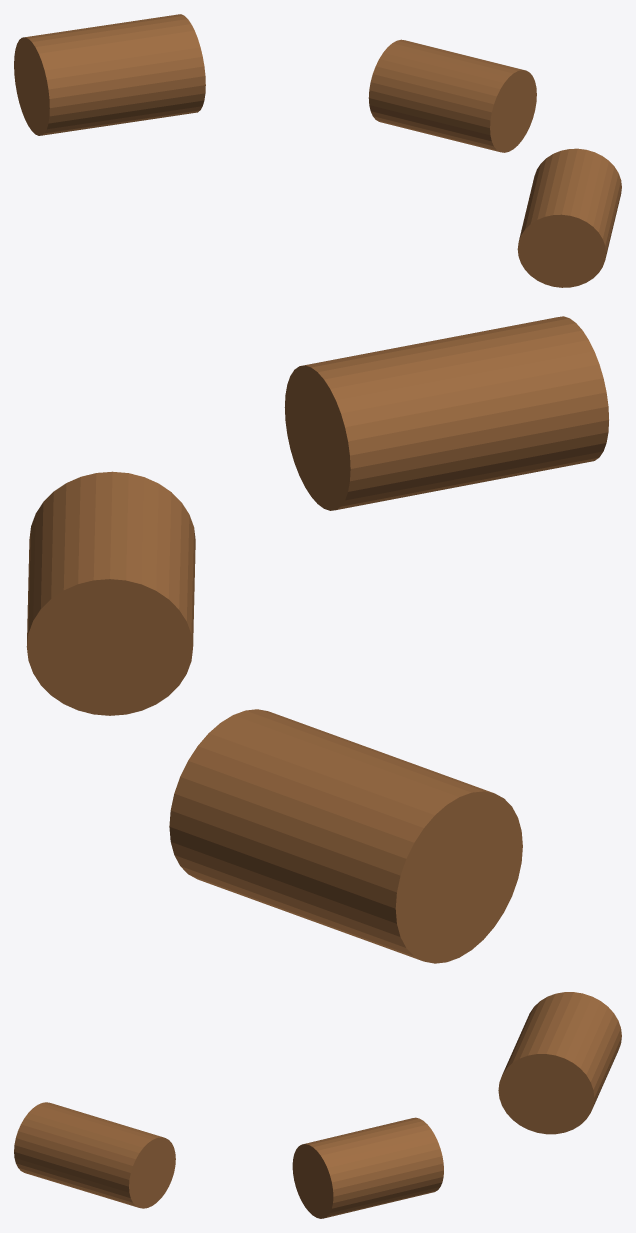
File: logs.fbx
3 renders of one model, top to bottom at view 1: azimuth 30°, elevation 25°; view 2: azimuth 150°, elevation 25°; view 3: azimuth 270°, elevation 25°, orthographic. The views are drawn at different scales.
Parts seen in each view (by area): view 1: Cylinder.001; view 2: Cylinder.001; view 3: Cylinder.001.
Part boxes in pixels (left/top/right/bottom): Cylinder.001: left=14, top=14, right=621, bottom=287; Cylinder.001: left=26, top=316, right=608, bottom=963; Cylinder.001: left=14, top=992, right=621, bottom=1218.
Bounding box in the file's own units: 366 × 81.95 × 562.
